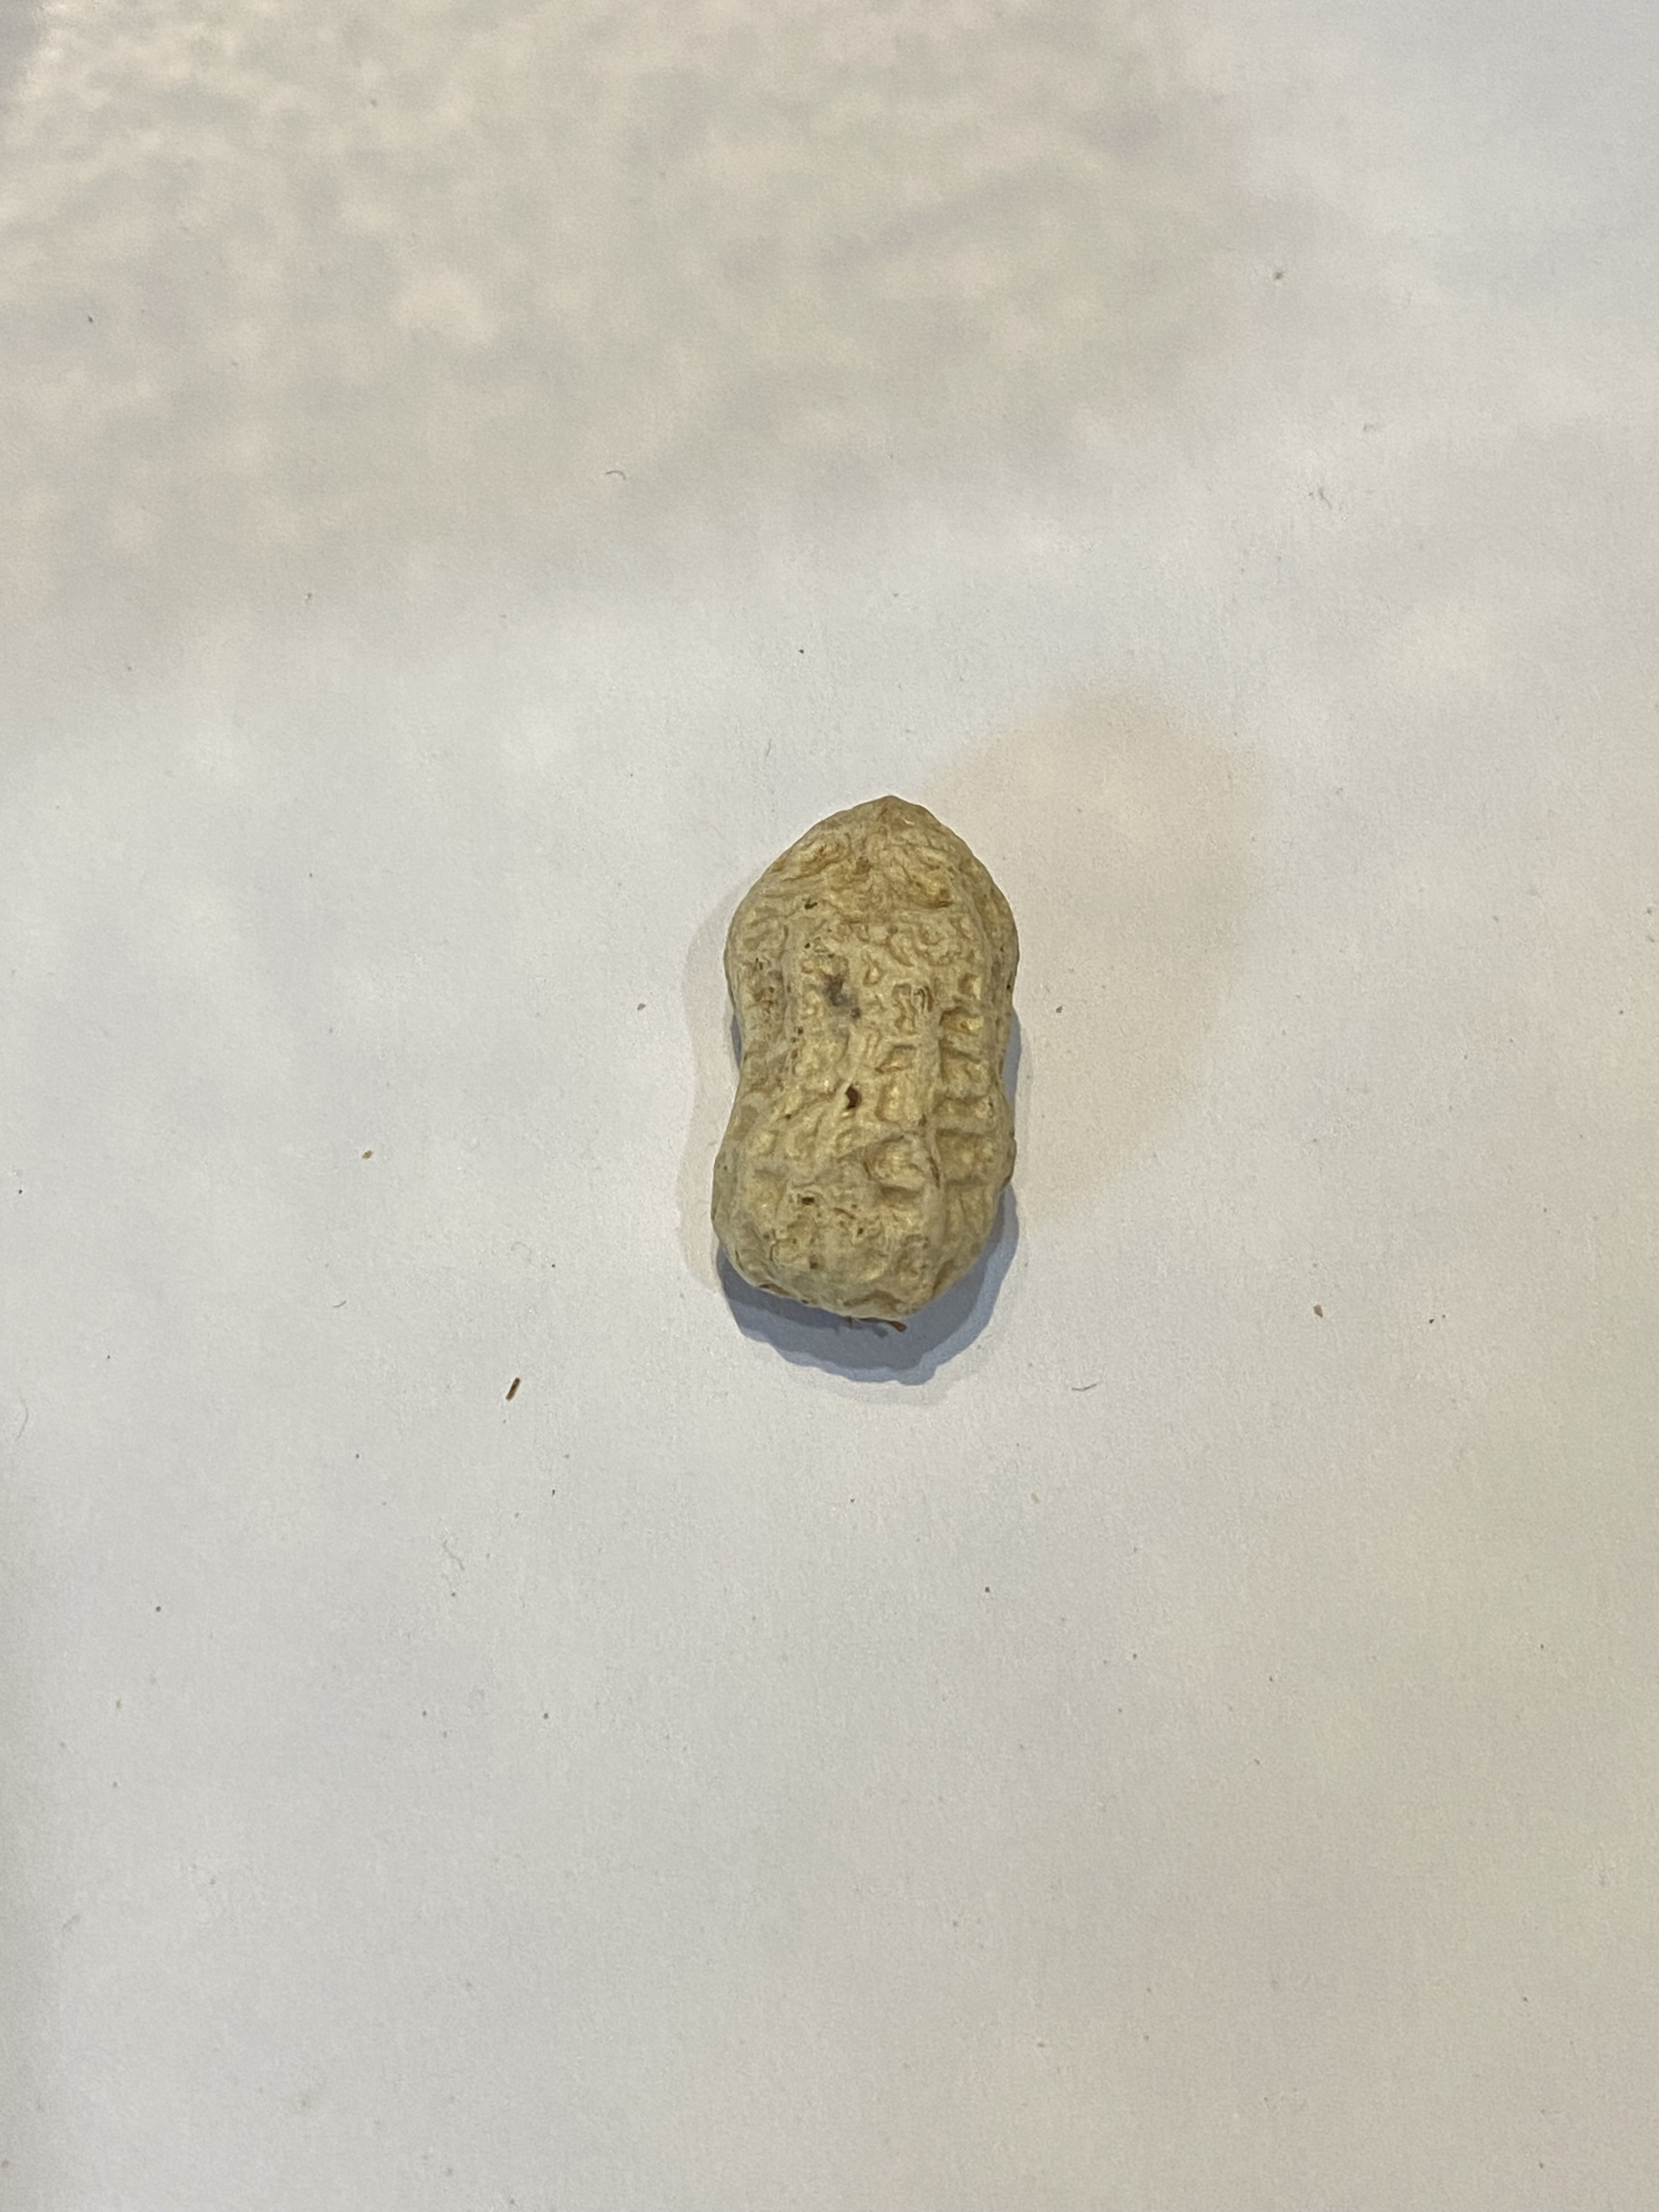kacang2: (697, 798, 1040, 1329)
